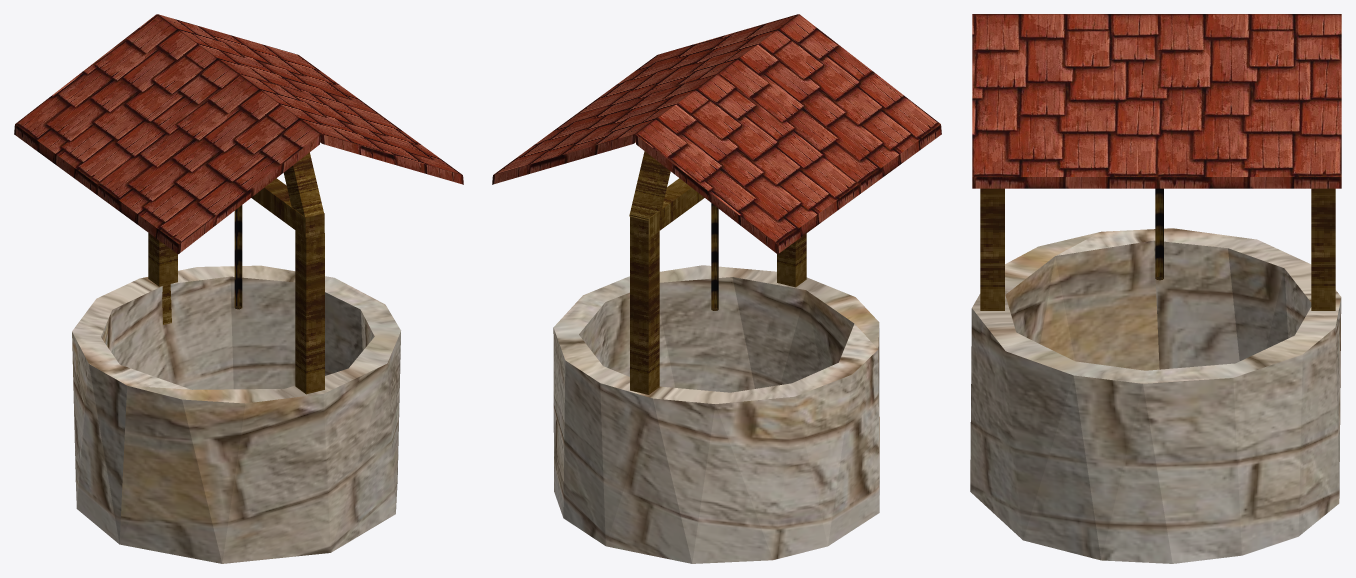
File: desert well.glb
3 views of the same model, side by side, from view 1: azimuth 30°, elevation 25°; view 2: azimuth 150°, elevation 25°; view 3: azimuth 270°, elevation 25° (orthographic). The views are drawn at different scales.
Parts seen in each view (by area): view 1: Cylinder.001; view 2: Cylinder.001; view 3: Cylinder.001.
Boxes of the visible parts, box(x1,y1,x2,y2) form: Cylinder.001: box(14, 14, 463, 563); Cylinder.001: box(492, 14, 941, 563); Cylinder.001: box(970, 14, 1341, 563).
Size of the model in its own units: 2.01 by 2.82 by 2.01.
Materials: 6 (6 with a texture image).
